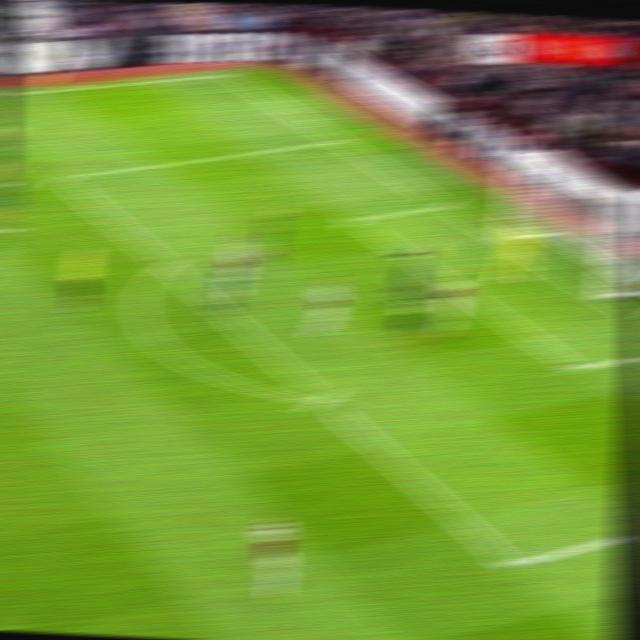bigarea_bottom_inner: (491, 543, 534, 586)
bigarea_top_inner: (46, 164, 80, 191)
bigarea_top_outter: (320, 125, 354, 152)
bottom_arc_area_intersection: (302, 381, 343, 416)
corner: (209, 62, 245, 82)
smallarea_bottom_inner: (558, 348, 598, 387)
smallarea_top_inner: (339, 206, 373, 233)
smallarea_top_outter: (426, 189, 463, 220)
top_arc_area_intersection: (151, 252, 182, 277)
